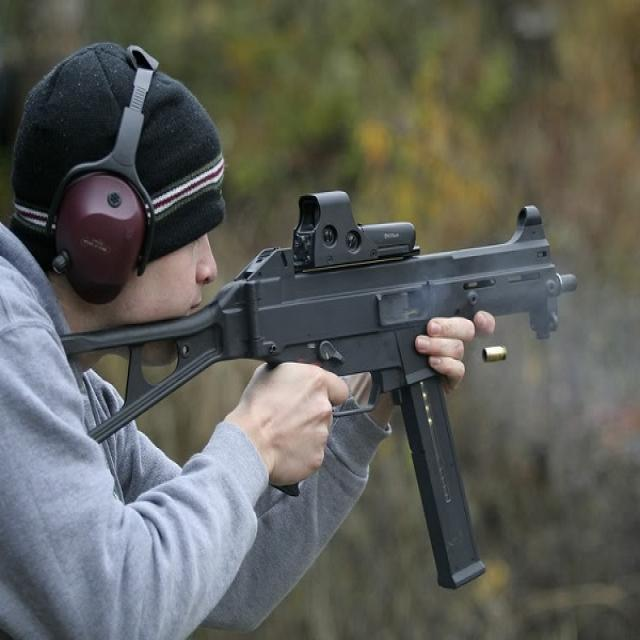SMG: (62, 192, 579, 592)
